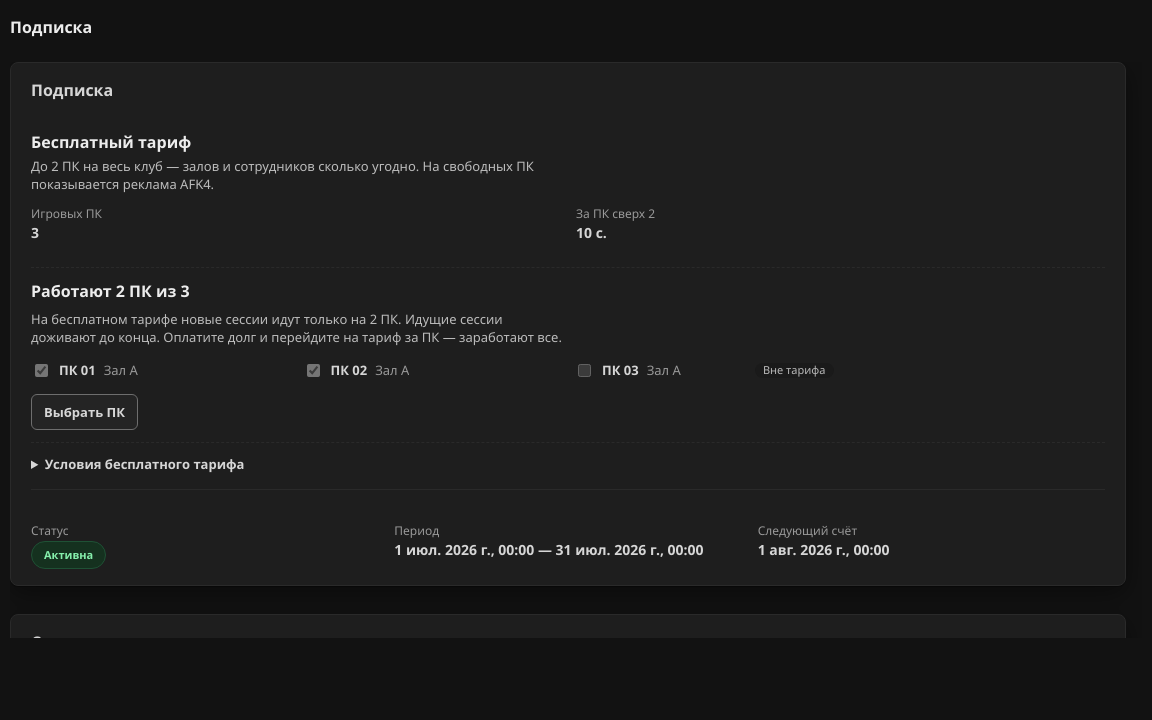
Test: неоплата и ПК вне тарифа › владелец выбирает, какие ПК работают на бесплатном тарифе
Expected: the text "Работают 2 ПК из 3" is shown, [31,280,190,302]
What coordinates should you click on to do the following:
click the button "Выбрать ПК"
I would click on:
 (84, 412)
Its box is [31,394,138,430].
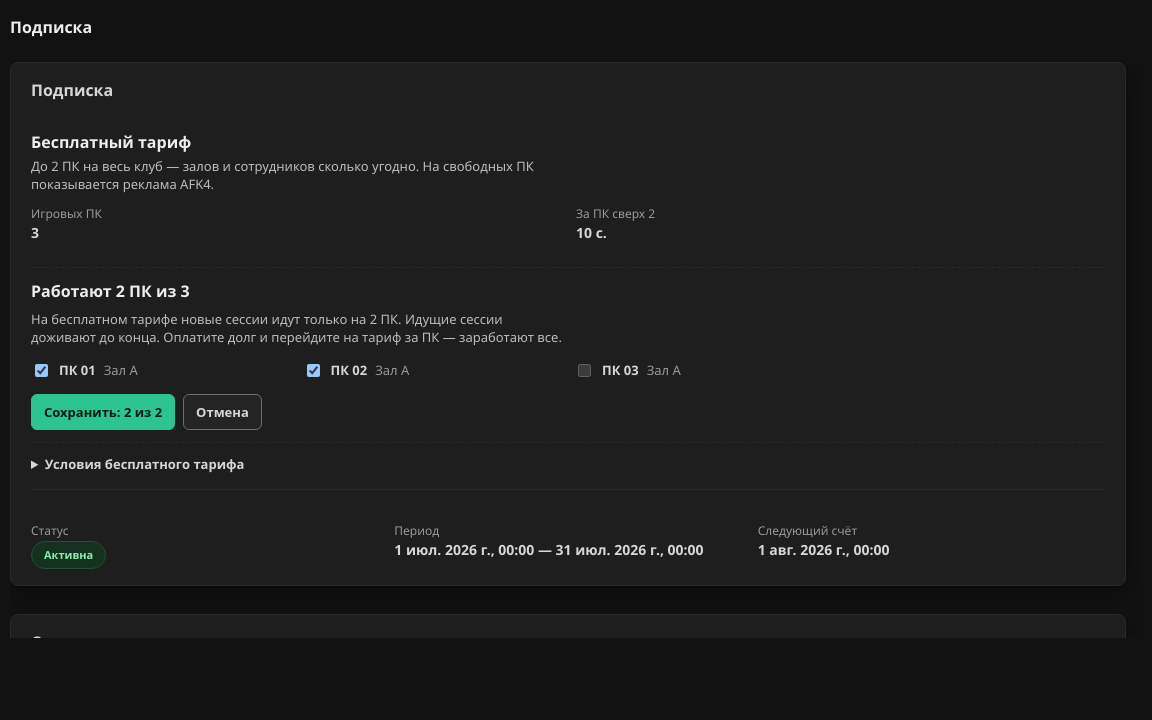
Expected: the checkbox labelled "ПК 03 Зал A" is disabled, [578,364,591,376]
What coordinates should you click on to do the following:
click the checkbox labelled "ПК 01 Зал A"
I would click on:
 (42, 370)
Its box is [35,364,48,376].
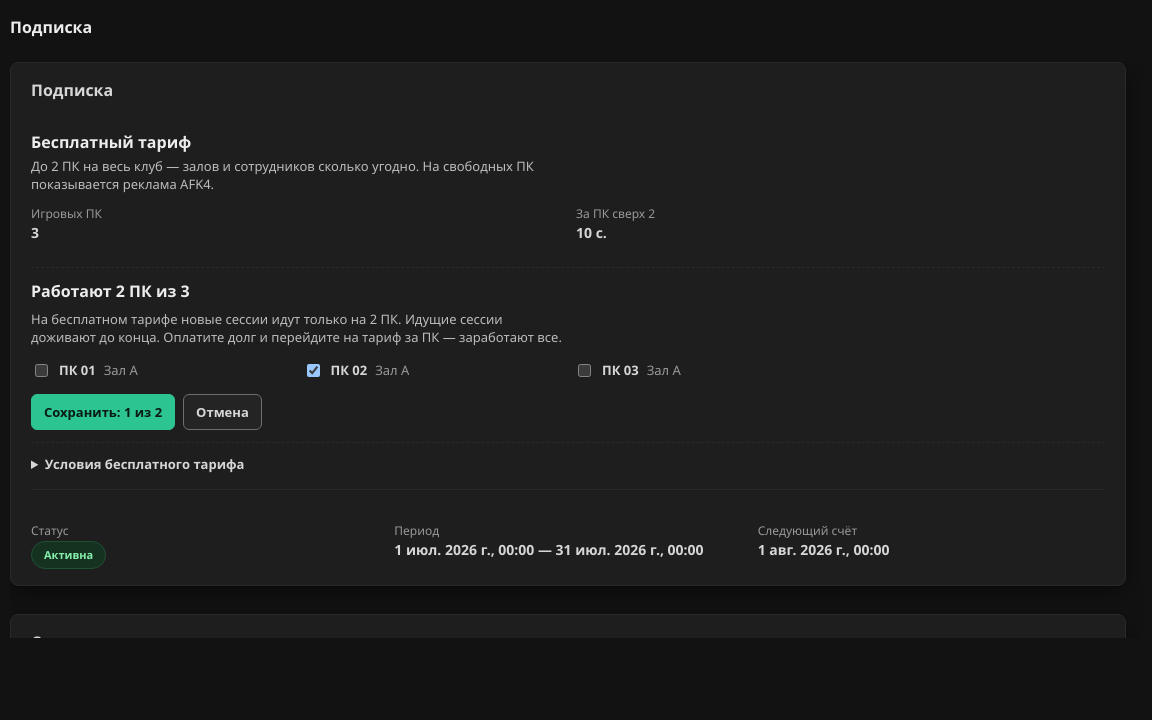
What coordinates should you click on to do the following:
click the checkbox labelled "ПК 03 Зал A"
I would click on:
 (584, 370)
Its box is [578,364,591,376].
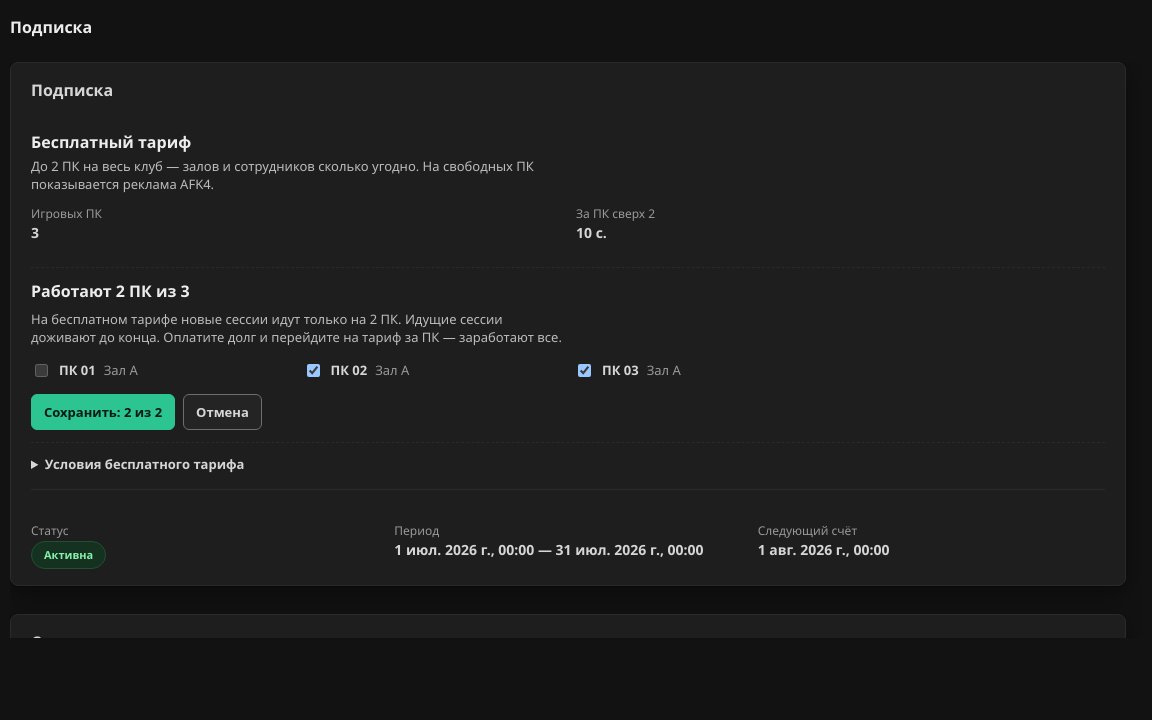
What coordinates should you click on to do the following:
click the button "Сохранить: 2 из 2"
I would click on:
 (103, 412)
Its box is [31,394,175,430].
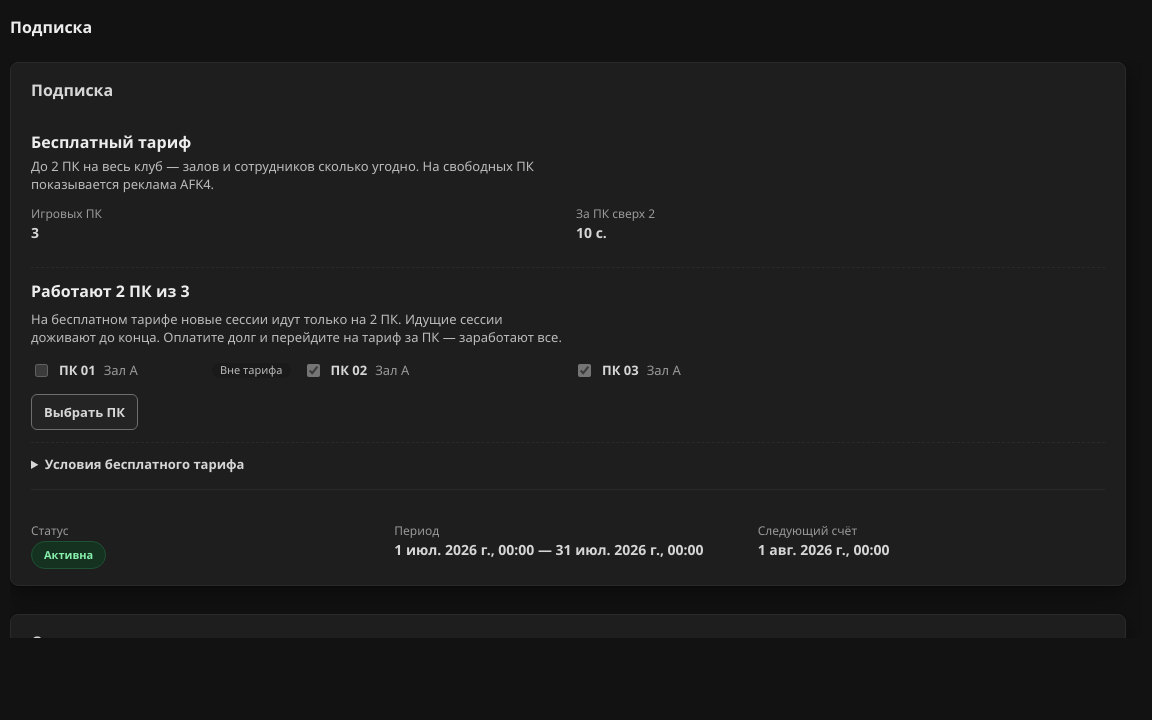
Expected: the button "Выбрать ПК" is shown, [31,394,138,430]
